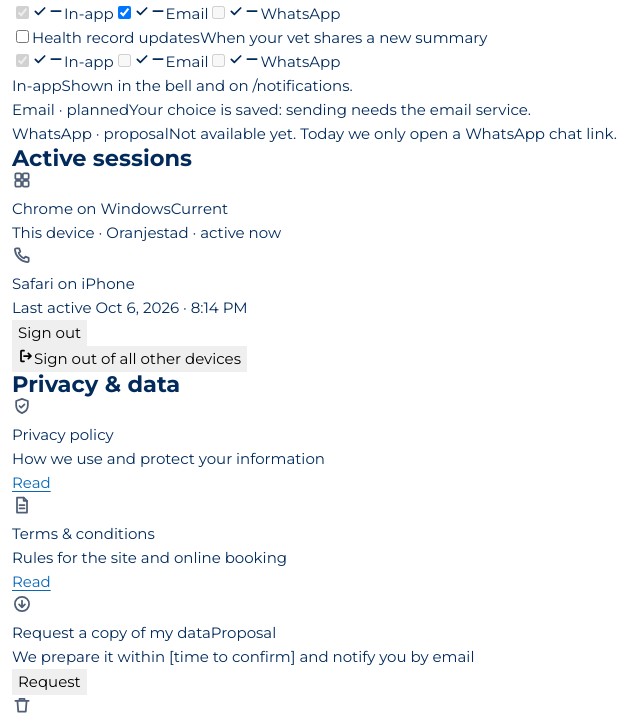
Test case: CustomerSettings › signs out of the other devices
The width and height of the screenshot is (634, 719).
(page scrolled)
Expected: the text "Safari on iPhone" is shown, [12,274,135,293]
Click the button "Sign out of all other devices" at (130, 359), box [12,346,247,372]
(page scrolled)
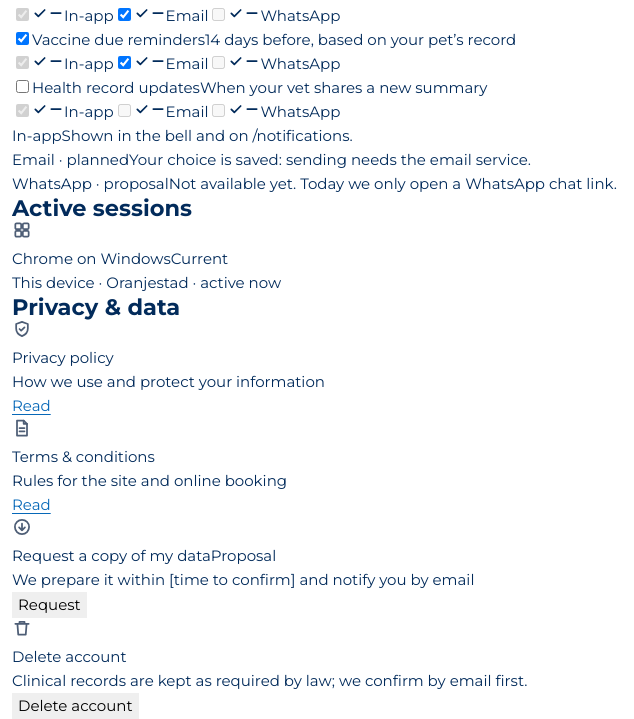
Expected: the text "Chrome on Windows" is shown, [12,249,171,268]
Expected: the text "Safari on iPhone" is gone
